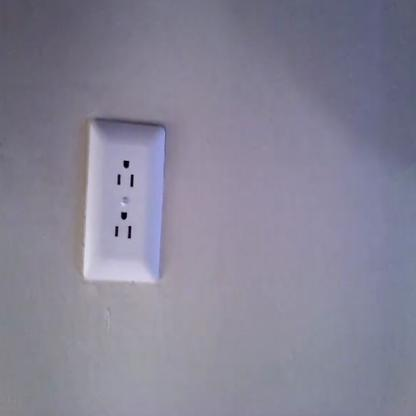OUTLET: (82, 119, 166, 282)
